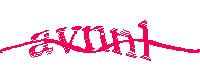a: (27, 27, 55, 58)
l: (137, 18, 153, 62)
n: (110, 26, 138, 60), (82, 25, 109, 54)
v: (55, 21, 79, 57)
